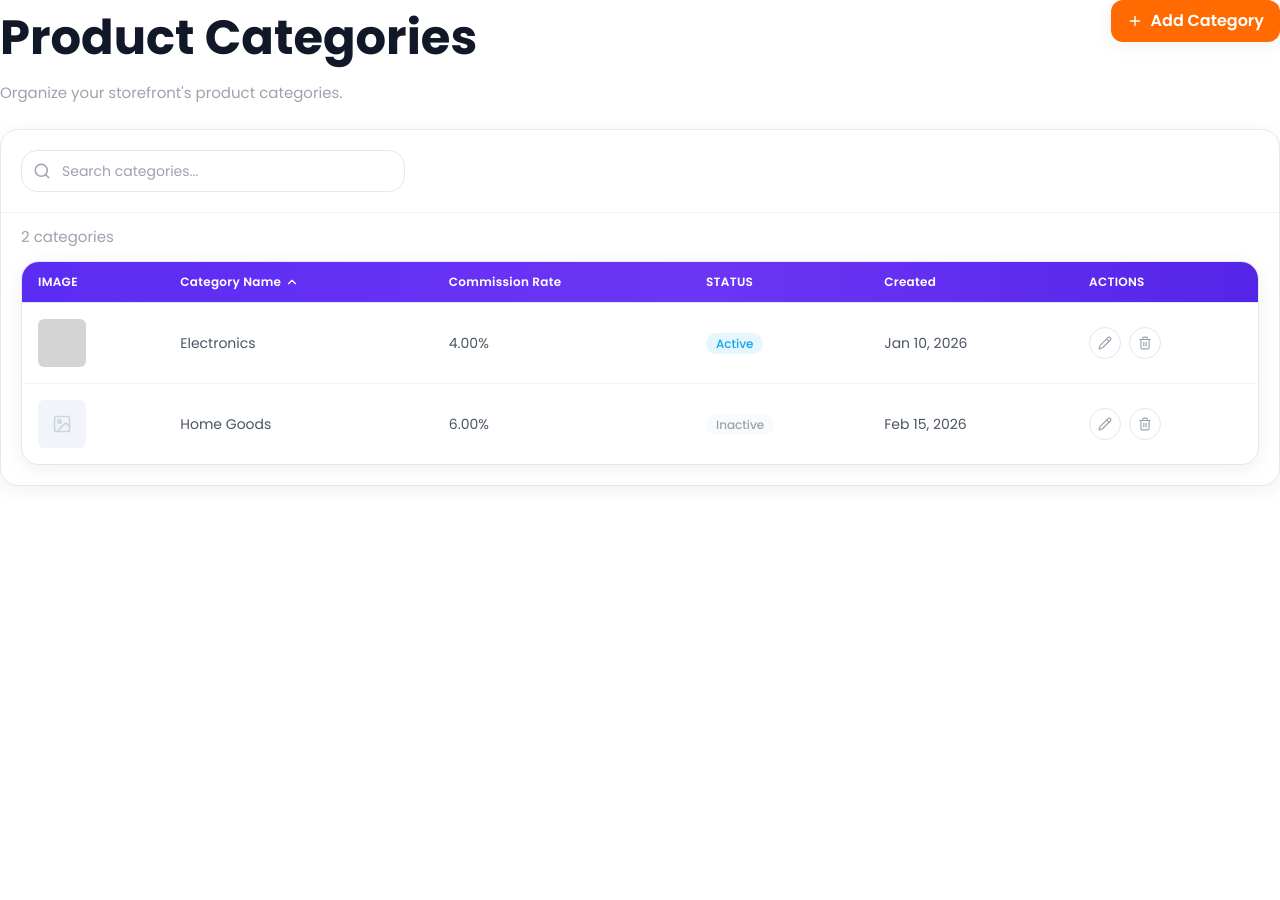
Scenario: CategoriesPage › shows the backend in-use message via toast and keeps the row when delete is blocked
The width and height of the screenshot is (1280, 900).
Expected: the text "Electronics" is shown, [164, 302, 433, 383]
Step 1. Click the button named "Delete Electronics" → (1145, 343), box [1129, 327, 1161, 359]
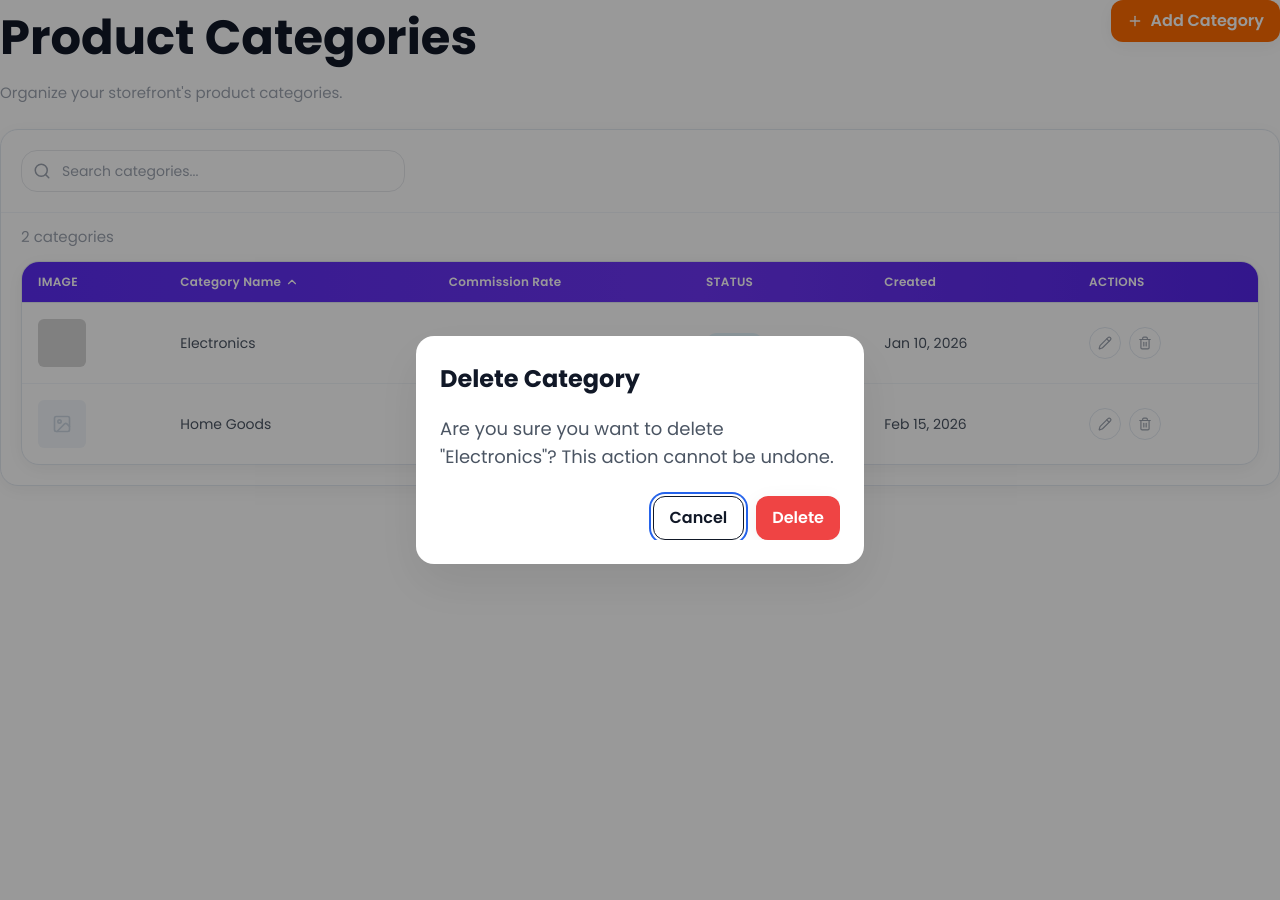
Step 2. Click the button "Delete" → (798, 518), box [756, 496, 840, 540]
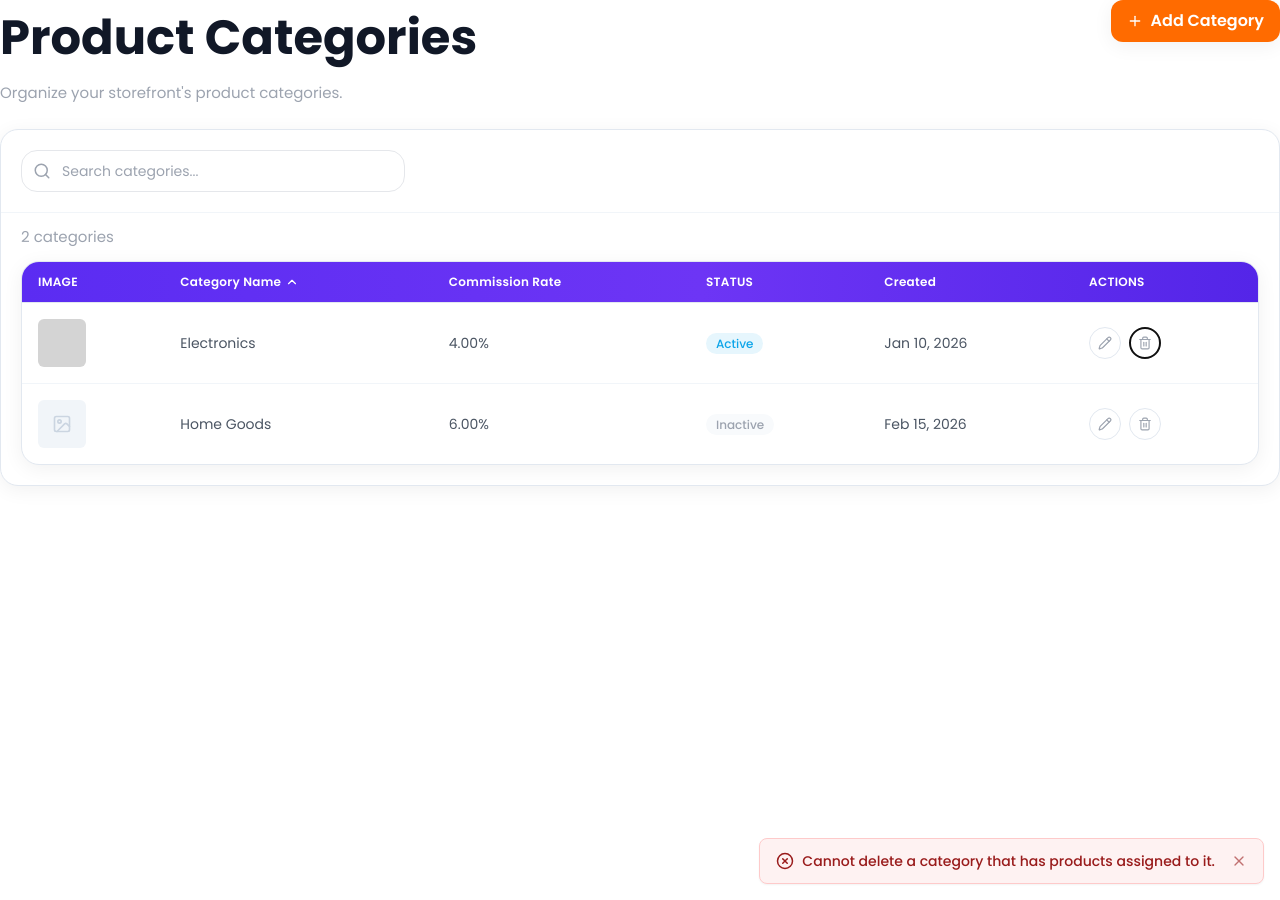
Expected: the text "Electronics" is shown, [164, 302, 433, 383]
Result: the text "Cannot delete a category that has products assigned to it." is shown at [802, 851, 1215, 871]
